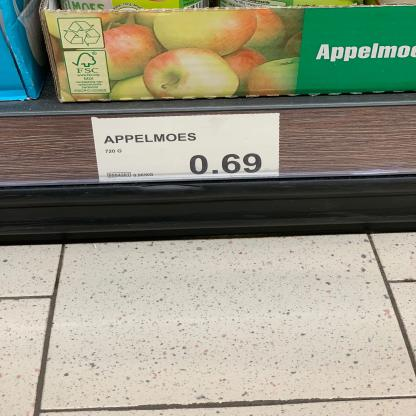prtg: (93, 114, 279, 182)
